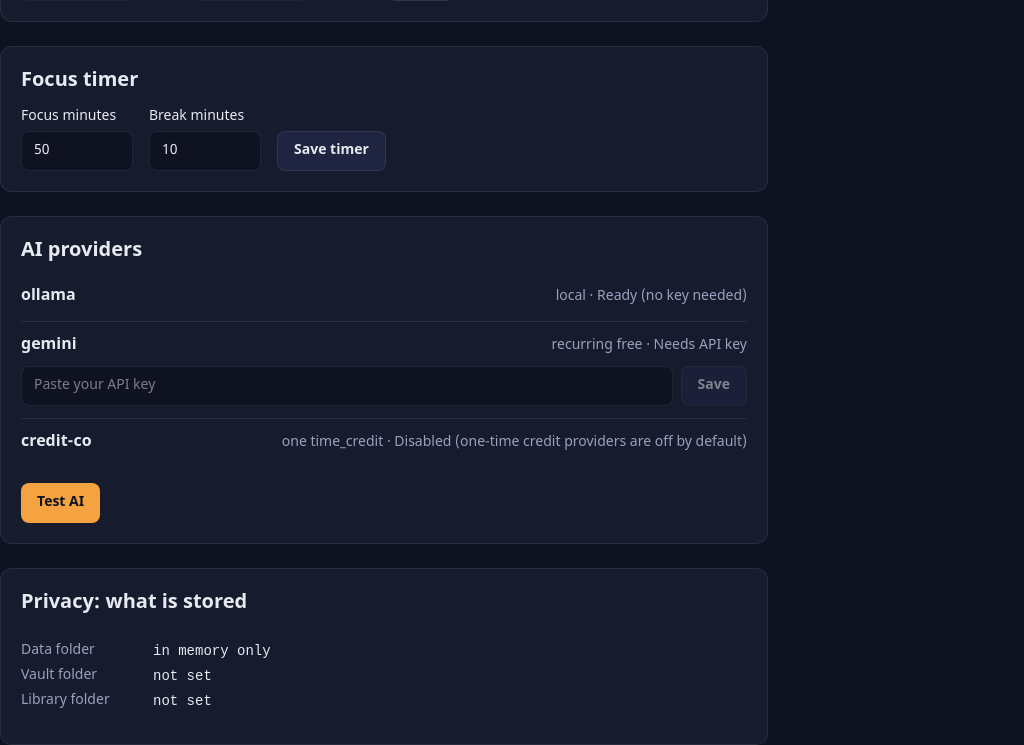
Test case: Settings screen › saves a key through the main process and never displays it
(page scrolled)
Type "AIza-VERY-SECRET" into the password field named "gemini api key" at (347, 386), box [21, 366, 673, 406]
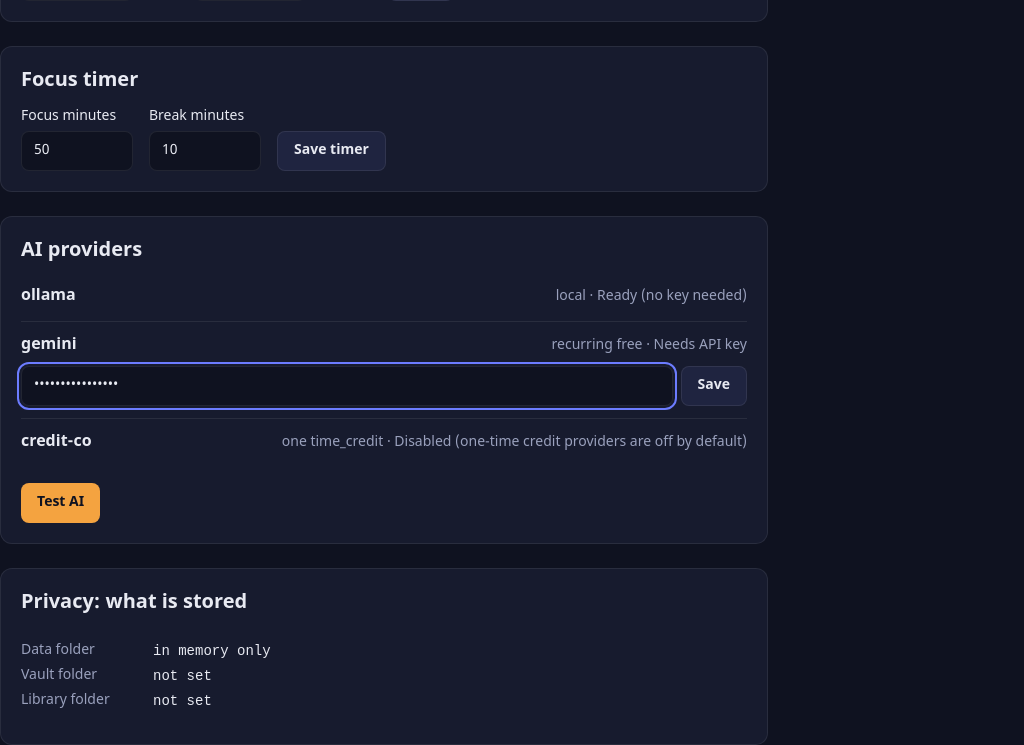
Click the button with aria-label "save gemini" at (714, 386), box [681, 366, 747, 406]
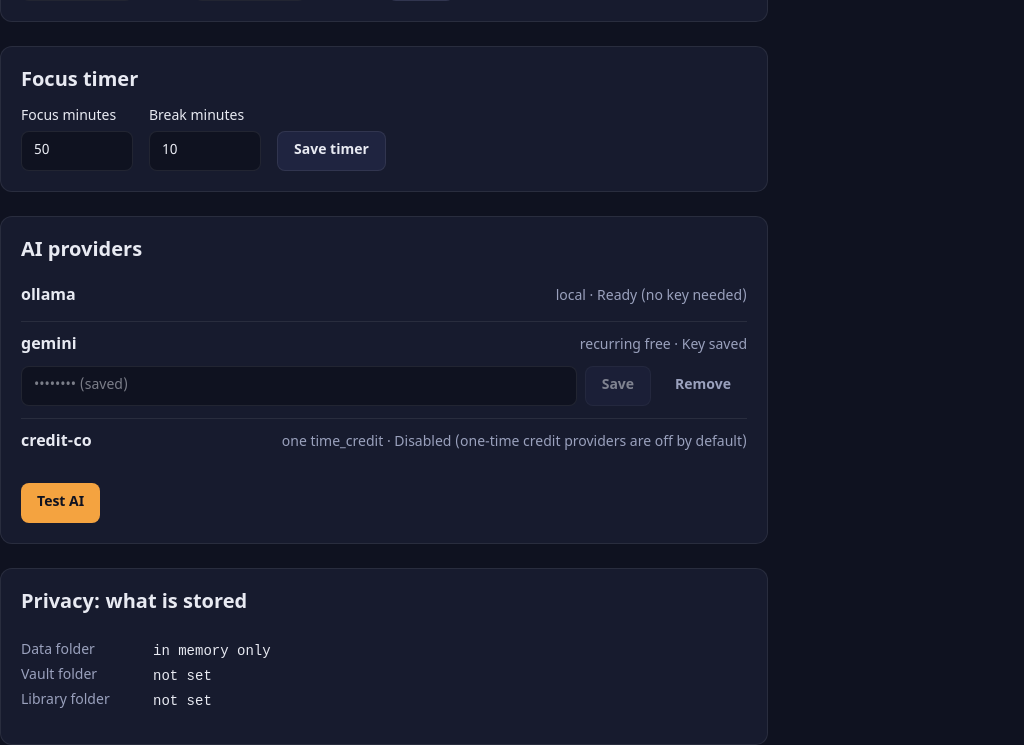
Expected: the password field named "gemini api key" is empty, [21, 366, 577, 406]
Expected: the text "recurring free · Key saved" is shown, [580, 336, 747, 356]
